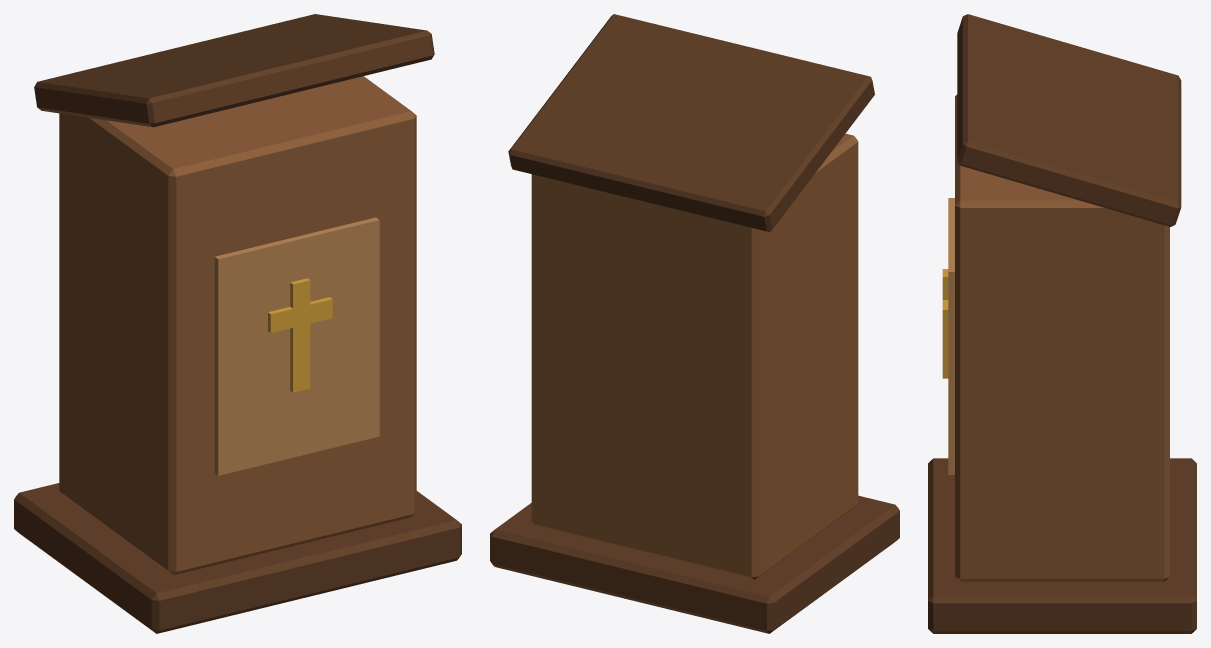
Rendered from Pulpit.fbx.
3 renders of one model, left to right at view 1: azimuth 30°, elevation 25°; view 2: azimuth 150°, elevation 25°; view 3: azimuth 270°, elevation 25°, orthographic. The views are drawn at different scales.
Visible parts, largest first — view 1: Pulpit; view 2: Pulpit; view 3: Pulpit.
Boxes of the visible parts, bbox=[...] form: Pulpit: bbox=[14, 14, 461, 633]; Pulpit: bbox=[490, 14, 899, 633]; Pulpit: bbox=[928, 14, 1196, 633].
Size of the model in its own units: 2.5 by 4 by 2.
